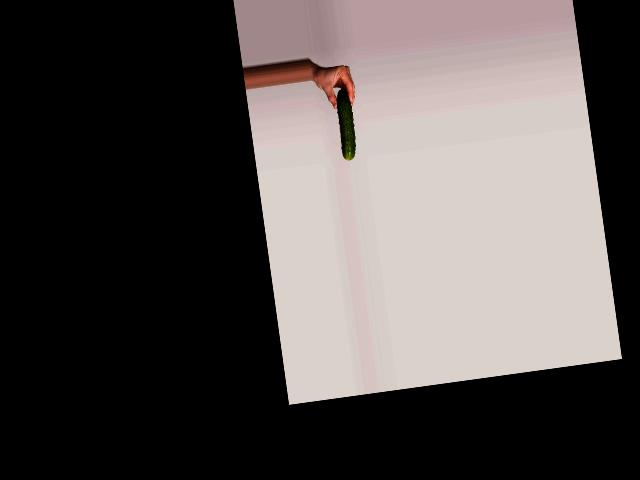cucumber: (334, 88, 358, 160)
